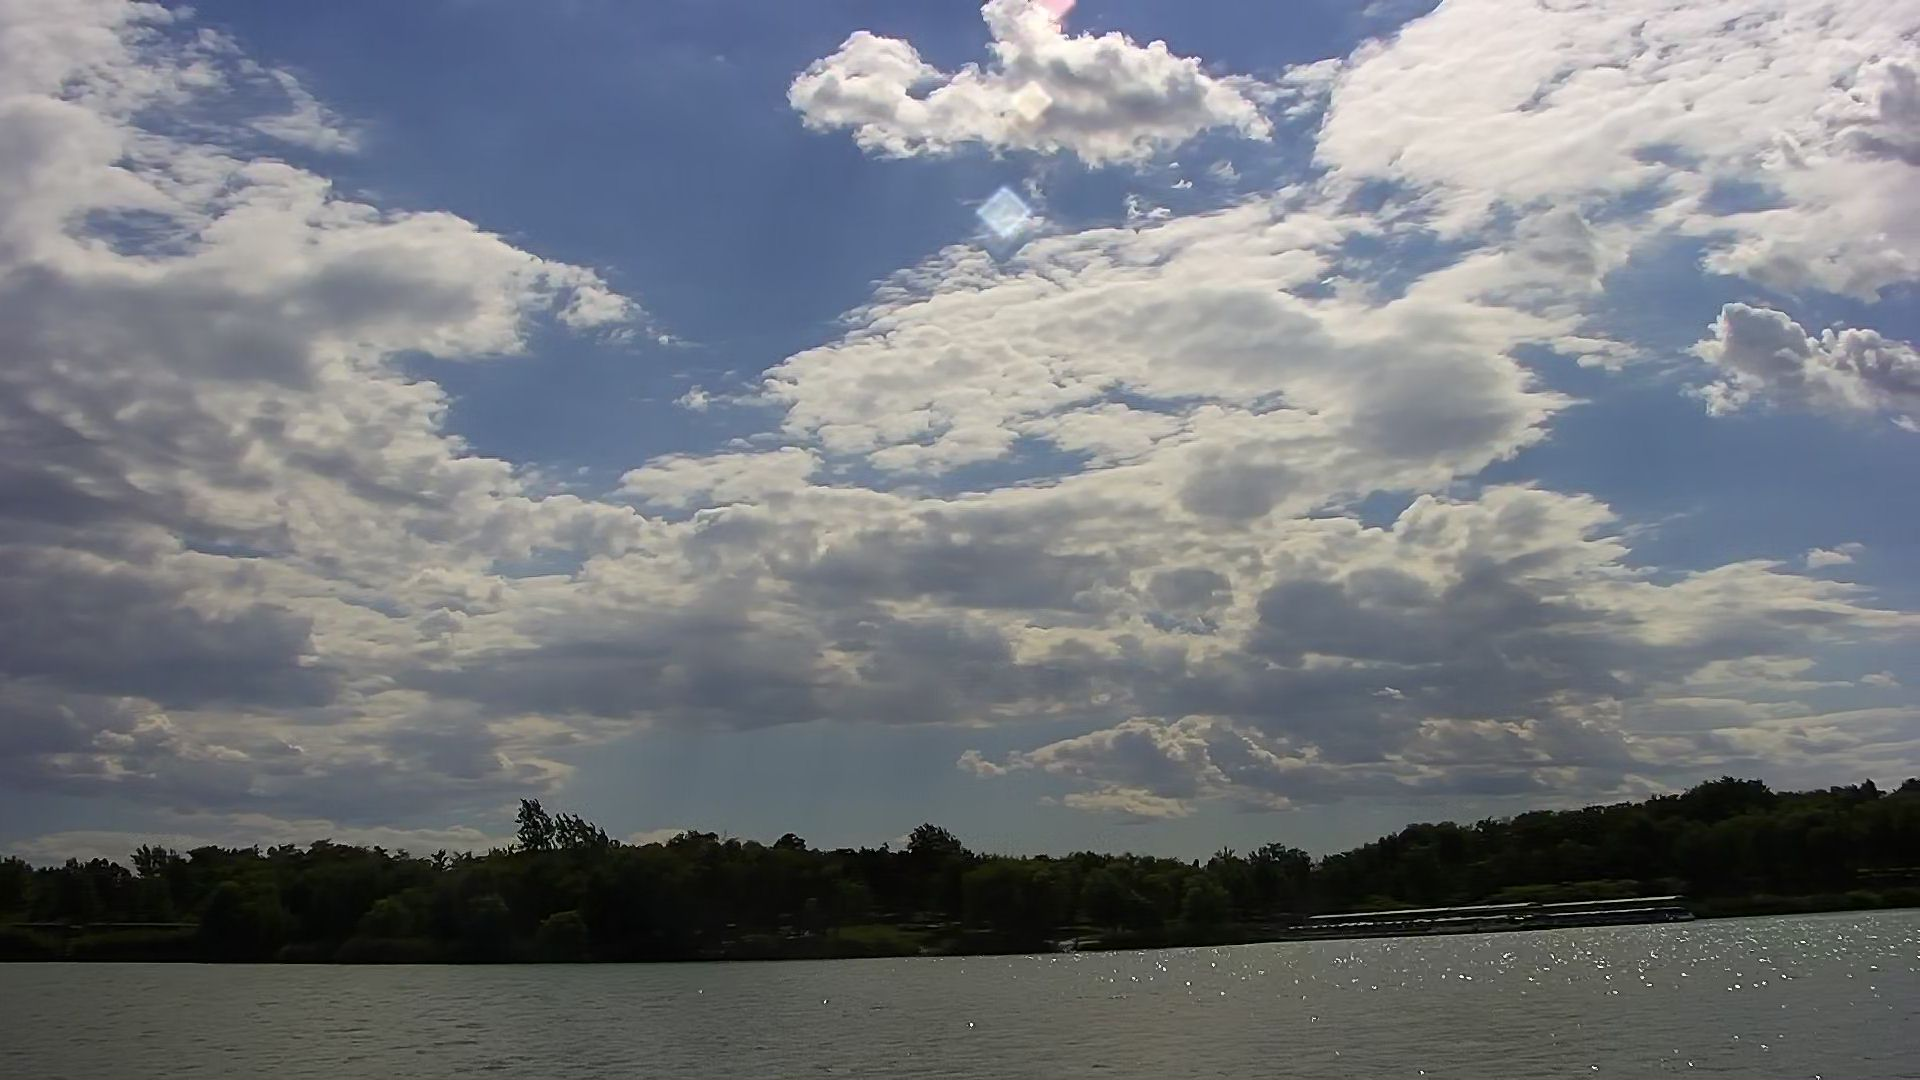harbor: (1263, 895, 1712, 948)
